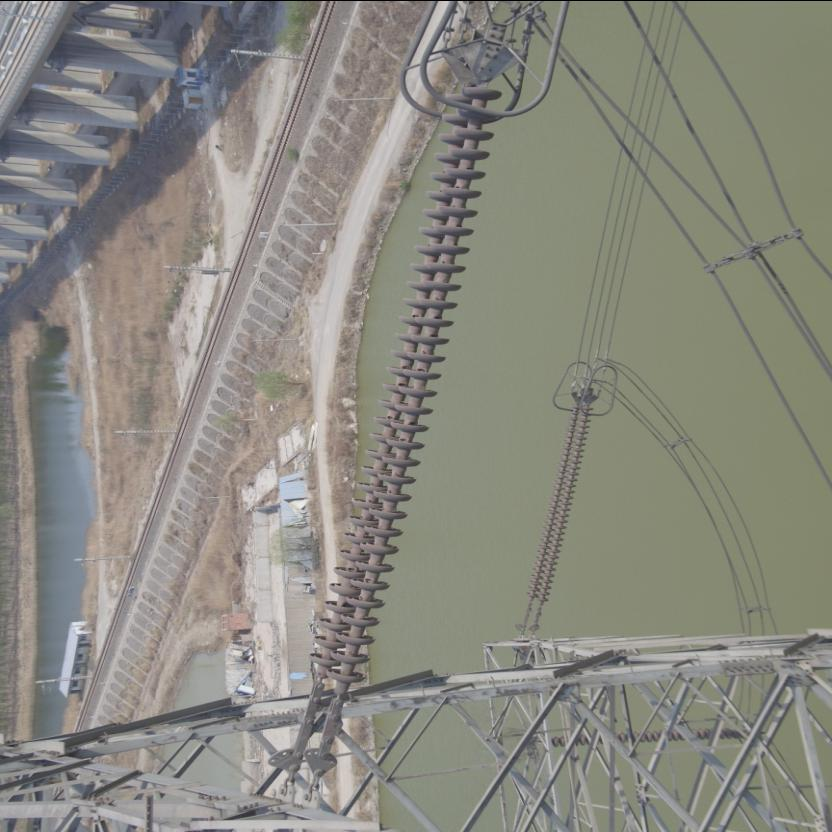insulator: (300, 62, 512, 738), (521, 399, 595, 612)
